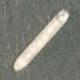ship: (9, 7, 73, 74)
